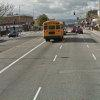Bus: (37, 16, 66, 47)
